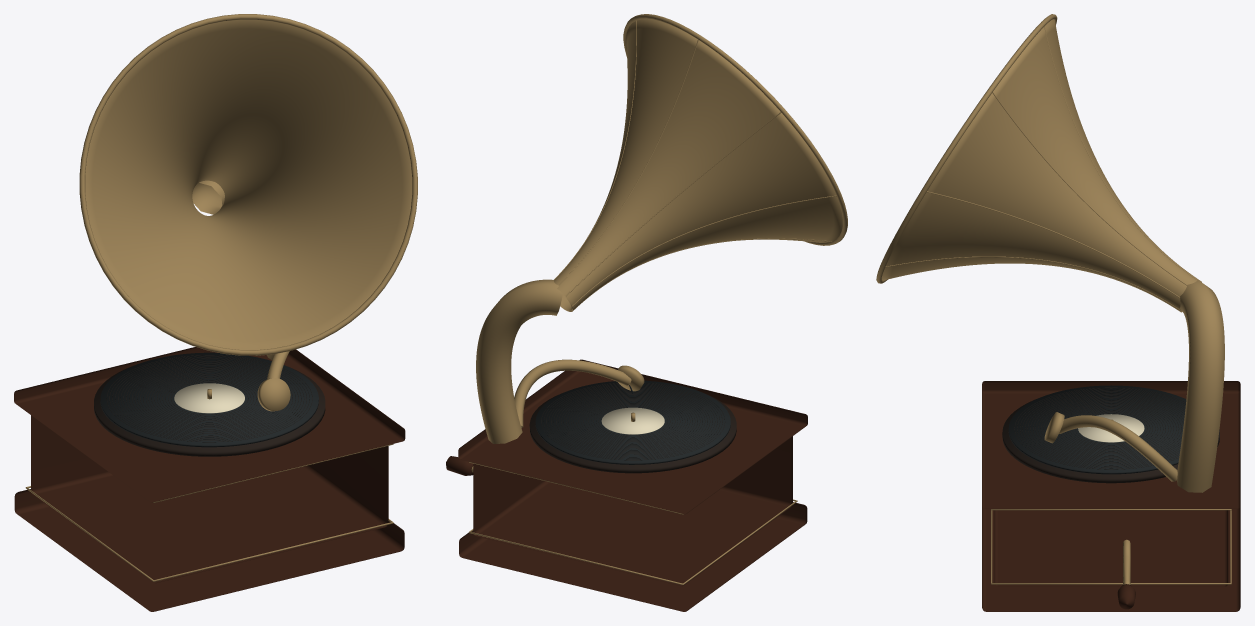
Rendered from Gramophone.fbx.
The picture shows the model from 3 angles, left to right: view 1: azimuth 30°, elevation 25°; view 2: azimuth 150°, elevation 25°; view 3: azimuth 270°, elevation 25°; orthographic projection. The views are drawn at different scales.
Visible parts, largest first — view 1: Spun brass open horn.001, Gramophone cabinet.001, Gramophone top moulding.001, Shellac record.001, Gramophone bottom moulding.001, Horn rolled lip.001, Turntable felt.001, Record paper label.001, Cabinet fine brass inlay.002, Sound box.001, Curved acoustic neck.001; view 2: Spun brass open horn.001, Gramophone cabinet.001, Gramophone top moulding.001, Shellac record.001, Gramophone bottom moulding.001, Curved acoustic neck.001, Turntable felt.001, Horn rolled lip.001, Continuous tone arm.001, Record paper label.001, Cabinet fine brass inlay.002; view 3: Spun brass open horn.001, Gramophone cabinet.001, Gramophone top moulding.001, Shellac record.001, Gramophone bottom moulding.001, Curved acoustic neck.001, Horn rolled lip.001, Turntable felt.001, Continuous tone arm.001, Record paper label.001, Cabinet fine brass inlay.002.
Boxes of the visible parts, x1=… form: Spun brass open horn.001: x1=85, y1=19, x2=412, y2=349; Gramophone cabinet.001: x1=31, y1=415, x2=388, y2=583; Gramophone top moulding.001: x1=14, y1=347, x2=405, y2=502; Shellac record.001: x1=100, y1=352, x2=318, y2=447; Gramophone bottom moulding.001: x1=14, y1=489, x2=404, y2=611; Horn rolled lip.001: x1=79, y1=14, x2=417, y2=355; Turntable felt.001: x1=94, y1=366, x2=325, y2=456; Record paper label.001: x1=174, y1=383, x2=244, y2=413; Cabinet fine brass inlay.002: x1=25, y1=486, x2=393, y2=581; Sound box.001: x1=257, y1=378, x2=290, y2=411; Curved acoustic neck.001: x1=192, y1=180, x2=224, y2=214; Spun brass open horn.001: x1=554, y1=19, x2=842, y2=311; Gramophone cabinet.001: x1=473, y1=436, x2=792, y2=586; Gramophone top moulding.001: x1=458, y1=359, x2=807, y2=514; Shellac record.001: x1=535, y1=380, x2=730, y2=464; Gramophone bottom moulding.001: x1=459, y1=502, x2=807, y2=611; Curved acoustic neck.001: x1=476, y1=279, x2=562, y2=443; Turntable felt.001: x1=529, y1=392, x2=736, y2=473; Horn rolled lip.001: x1=623, y1=14, x2=847, y2=245; Continuous tone arm.001: x1=514, y1=359, x2=631, y2=427; Record paper label.001: x1=601, y1=407, x2=664, y2=434; Cabinet fine brass inlay.002: x1=469, y1=499, x2=797, y2=584; Spun brass open horn.001: x1=881, y1=19, x2=1201, y2=312; Gramophone cabinet.001: x1=994, y1=510, x2=1228, y2=586; Gramophone top moulding.001: x1=982, y1=381, x2=1240, y2=508; Shellac record.001: x1=1008, y1=385, x2=1186, y2=474; Gramophone bottom moulding.001: x1=982, y1=506, x2=1240, y2=611; Curved acoustic neck.001: x1=1177, y1=280, x2=1224, y2=492; Horn rolled lip.001: x1=876, y1=14, x2=1057, y2=283; Turntable felt.001: x1=1002, y1=399, x2=1219, y2=483; Continuous tone arm.001: x1=1059, y1=415, x2=1177, y2=481; Record paper label.001: x1=1078, y1=414, x2=1144, y2=442; Cabinet fine brass inlay.002: x1=991, y1=510, x2=1231, y2=584.
Bounding box in the file's own units: 0.5345 × 0.7406 × 0.4718.
